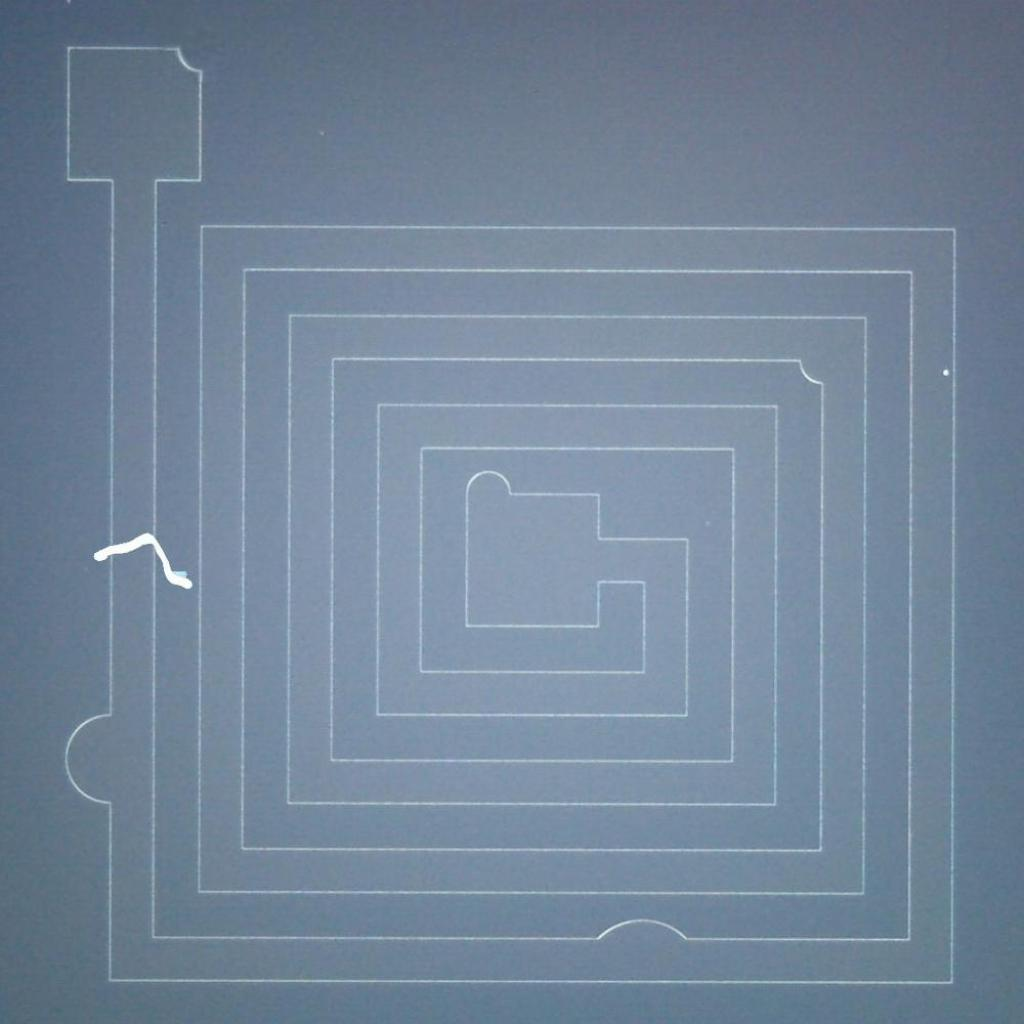curve circuit: (55, 695, 124, 821), (583, 909, 698, 951), (459, 461, 518, 505), (162, 37, 212, 85), (788, 350, 834, 394)
dot: (935, 358, 955, 386)
line: (86, 523, 202, 604)
